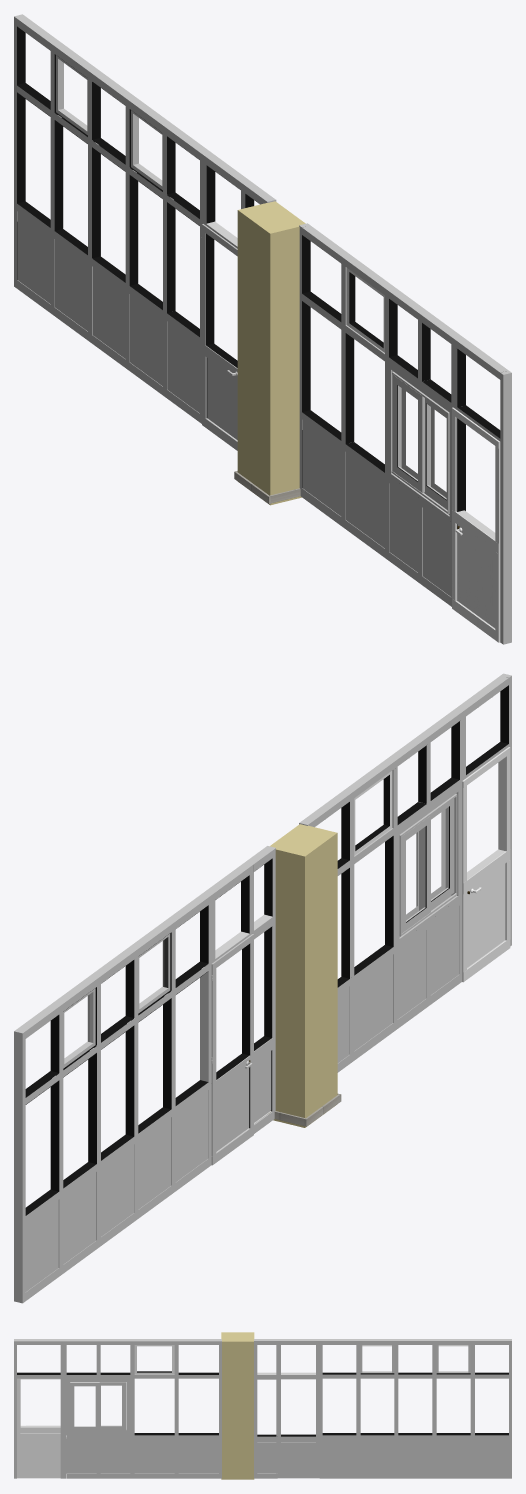
Rendered from paretevetrostruttra2.gltf.
3 renders of one model, top to bottom at view 1: azimuth 30°, elevation 25°; view 2: azimuth 150°, elevation 25°; view 3: azimuth 270°, elevation 25°, orthographic. The views are drawn at different scales.
Parts seen in each view (by area): view 1: Infissi Finestrati SX Struttura, Infissi Finestrati Dx Struttura, Porta Parete, Cubo.209, Porta Infissi Finestrati Sx, Vetro Alta 3 Infissi Finestrati Dx, Vetro Alta 4 Infissi Finestrati Dx, Cubo.065, Vetro Alta 2 Infissi Finestrati Sx, Vetro Alta 2 Infissi Finestrati Sx.001; view 2: Infissi Finestrati SX Struttura, Infissi Finestrati Dx Struttura, Porta Parete, Cubo.209, Porta Infissi Finestrati Sx, Vetro Alta 4 Infissi Finestrati Dx, Vetro Alta 3 Infissi Finestrati Dx, Cubo.065, Vetro Alta 2 Infissi Finestrati Sx.001, Vetro Alta 2 Infissi Finestrati Sx; view 3: Infissi Finestrati SX Struttura, Infissi Finestrati Dx Struttura, Porta Parete, Cubo.209, Porta Infissi Finestrati Sx, Vetro Alta 4 Infissi Finestrati Dx, Vetro Alta 3 Infissi Finestrati Dx, Cubo.065, Vetro Alta 2 Infissi Finestrati Sx, Vetro Alta 2 Infissi Finestrati Sx.001.
Boxes of the visible parts, x1,y1,x2,y2 form: Infissi Finestrati SX Struttura: (14, 14, 276, 423); Infissi Finestrati Dx Struttura: (299, 223, 511, 644); Porta Parete: (237, 201, 305, 505); Cubo.209: (452, 407, 500, 642); Porta Infissi Finestrati Sx: (201, 224, 237, 450); Vetro Alta 3 Infissi Finestrati Dx: (393, 375, 430, 492); Vetro Alta 4 Infissi Finestrati Dx: (425, 398, 447, 508); Cubo.065: (346, 268, 384, 352); Vetro Alta 2 Infissi Finestrati Sx: (56, 55, 87, 135); Vetro Alta 2 Infissi Finestrati Sx.001: (131, 110, 162, 189); Infissi Finestrati SX Struttura: (14, 846, 275, 1303); Infissi Finestrati Dx Struttura: (299, 673, 511, 1072); Porta Parete: (268, 824, 337, 1127); Cubo.209: (462, 747, 510, 982); Porta Infissi Finestrati Sx: (204, 934, 253, 1165); Vetro Alta 4 Infissi Finestrati Dx: (416, 798, 454, 910); Vetro Alta 3 Infissi Finestrati Dx: (401, 815, 430, 933); Cubo.065: (354, 771, 392, 855); Vetro Alta 2 Infissi Finestrati Sx.001: (138, 933, 170, 1013); Vetro Alta 2 Infissi Finestrati Sx: (63, 988, 95, 1068); Infissi Finestrati SX Struttura: (254, 1339, 511, 1478); Infissi Finestrati Dx Struttura: (14, 1339, 221, 1478); Porta Parete: (221, 1332, 254, 1479); Cubo.209: (17, 1378, 60, 1478); Porta Infissi Finestrati Sx: (277, 1376, 319, 1478); Vetro Alta 4 Infissi Finestrati Dx: (70, 1382, 99, 1432); Vetro Alta 3 Infissi Finestrati Dx: (97, 1382, 126, 1431); Cubo.065: (134, 1345, 174, 1374); Vetro Alta 2 Infissi Finestrati Sx: (436, 1345, 470, 1374); Vetro Alta 2 Infissi Finestrati Sx.001: (360, 1345, 394, 1374).
Size of the model in its own units: 0.4981 by 3.01 by 9.8.
10 materials, 1 textured.
